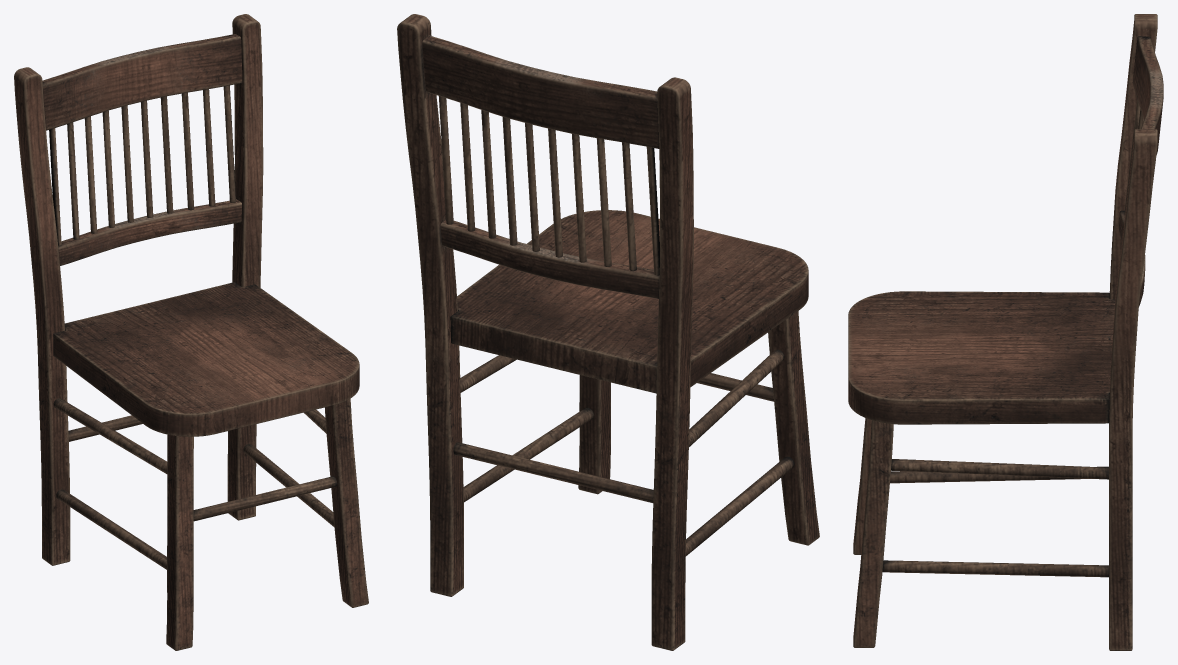
File: wooden_chair_hp.glb
3 renders of one model, left to right at view 1: azimuth 30°, elevation 25°; view 2: azimuth 150°, elevation 25°; view 3: azimuth 270°, elevation 25°, orthographic. The views are drawn at different scales.
Visible parts, largest first — view 1: Object_2; view 2: Object_2; view 3: Object_2.
Part boxes in pixels (bbox=[...]): Object_2: bbox=[14, 14, 368, 650]; Object_2: bbox=[397, 14, 819, 650]; Object_2: bbox=[848, 14, 1163, 650].
Size of the model in its own units: 4.1 by 8 by 4.37.
Materials: 1 (1 with a texture image).
